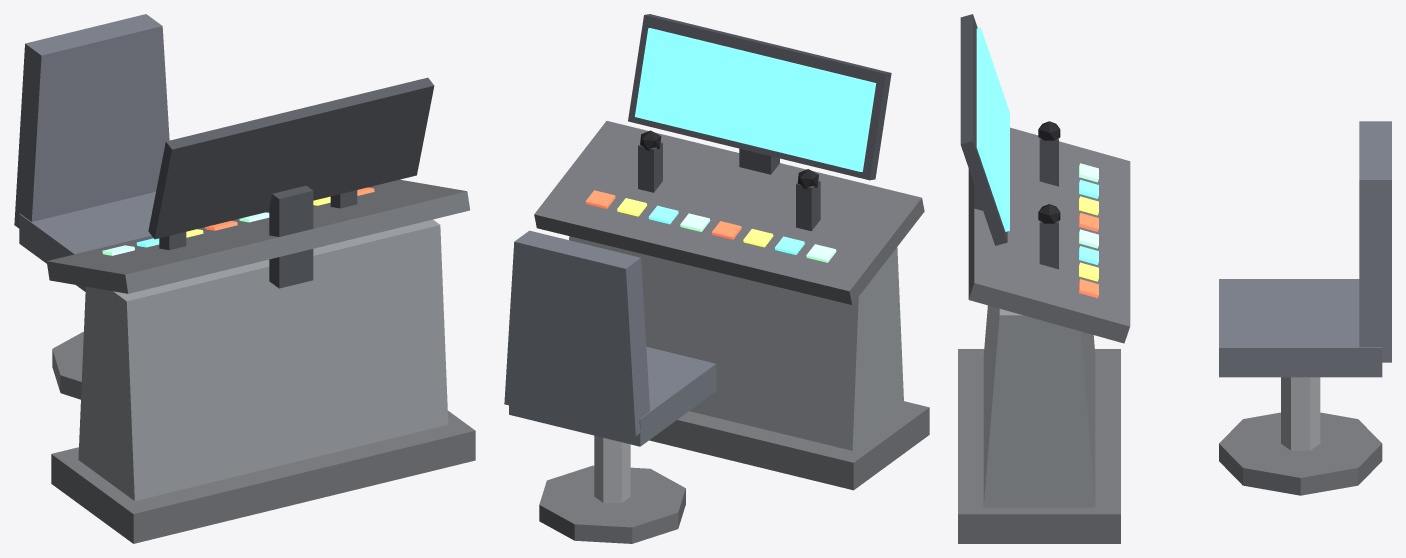
The model's file is SM_Pilot_Seat.glb.
The picture shows the model from 3 angles, left to right: view 1: azimuth 30°, elevation 25°; view 2: azimuth 150°, elevation 25°; view 3: azimuth 270°, elevation 25°; orthographic projection. The views are drawn at different scales.
Visible parts, largest first — view 1: SM_Pilot_Seat; view 2: SM_Pilot_Seat; view 3: SM_Pilot_Seat.
Boxes of the visible parts, <box> form: SM_Pilot_Seat: <box>14,14,475,543</box>; SM_Pilot_Seat: <box>504,14,929,543</box>; SM_Pilot_Seat: <box>958,14,1391,543</box>.
Size of the model in its own units: 1.2 by 1.3 by 1.33.
